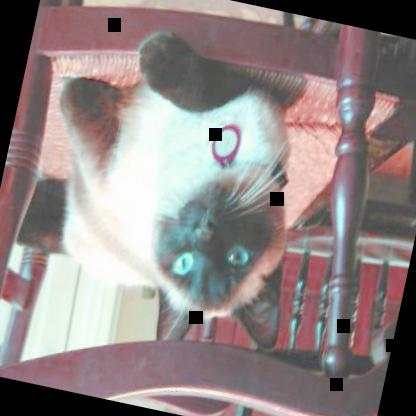cat: (15, 13, 335, 366)
